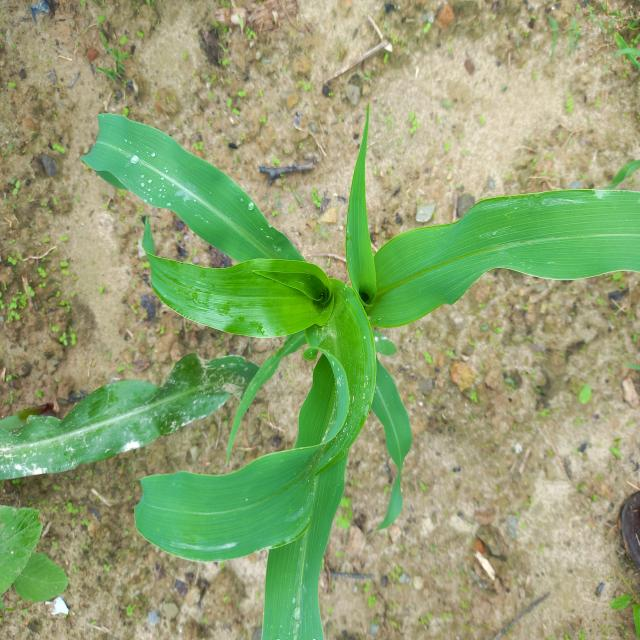maize: (96, 111, 640, 531), (3, 399, 306, 621)
weed: (0, 128, 86, 352)
